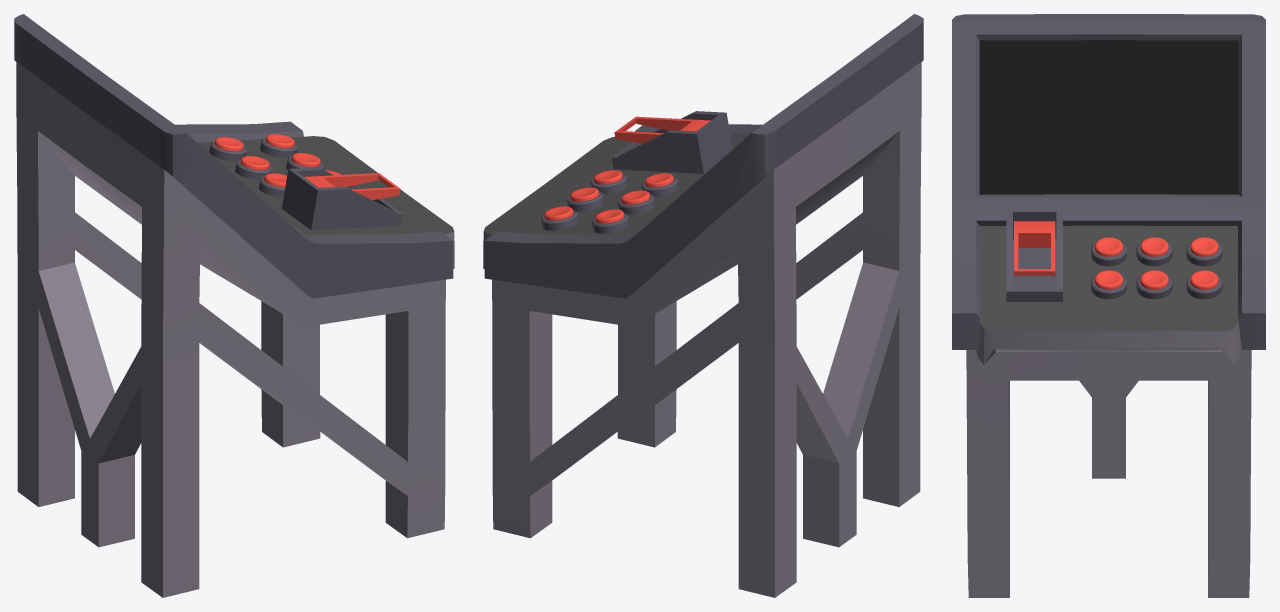
The model's file is Console_Reactor.fbx.
The picture shows the model from 3 angles, left to right: view 1: azimuth 30°, elevation 25°; view 2: azimuth 150°, elevation 25°; view 3: azimuth 270°, elevation 25°; orthographic projection. The views are drawn at different scales.
Visible parts, largest first — view 1: Console, Rubpl; view 2: Console, Rubpl; view 3: Console, Rubpl, B4, B1, B3, B5, B6, B2.
Part boxes in pixels (x1,y1,x2,y2): Console: (14, 14, 454, 597); Rubpl: (304, 173, 400, 200); Console: (483, 14, 923, 597); Rubpl: (614, 116, 710, 143); Console: (952, 14, 1265, 597); Rubpl: (1014, 221, 1055, 276); B4: (1094, 270, 1123, 289); B1: (1094, 237, 1123, 256); B3: (1190, 237, 1218, 256); B5: (1140, 270, 1168, 289); B6: (1190, 270, 1218, 289); B2: (1140, 237, 1168, 256).
Size of the model in its own units: 78.51 by 115 by 72.7.
